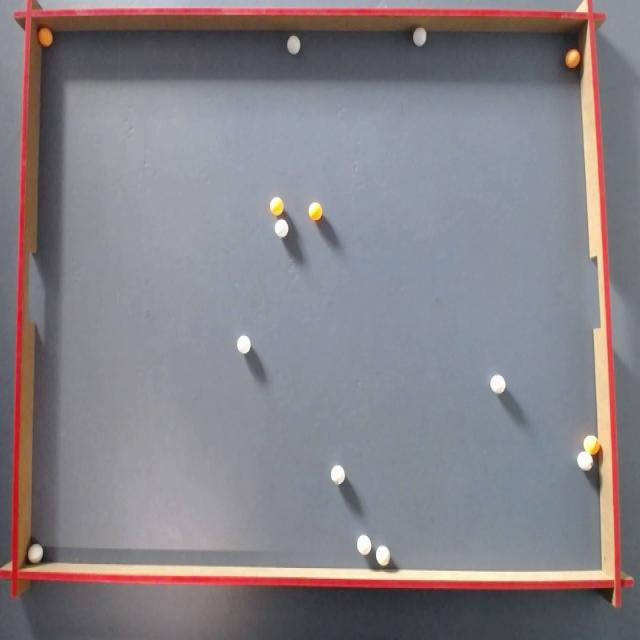orange_ball: (38, 26, 53, 46), (584, 435, 599, 455), (565, 49, 580, 68), (309, 202, 322, 220), (270, 197, 283, 215)
white_ball: (28, 543, 44, 564), (490, 374, 506, 394), (577, 451, 593, 471), (376, 546, 390, 566), (237, 335, 251, 354), (357, 535, 371, 554), (274, 220, 288, 238), (413, 27, 426, 46), (287, 35, 300, 54), (331, 465, 344, 484)
